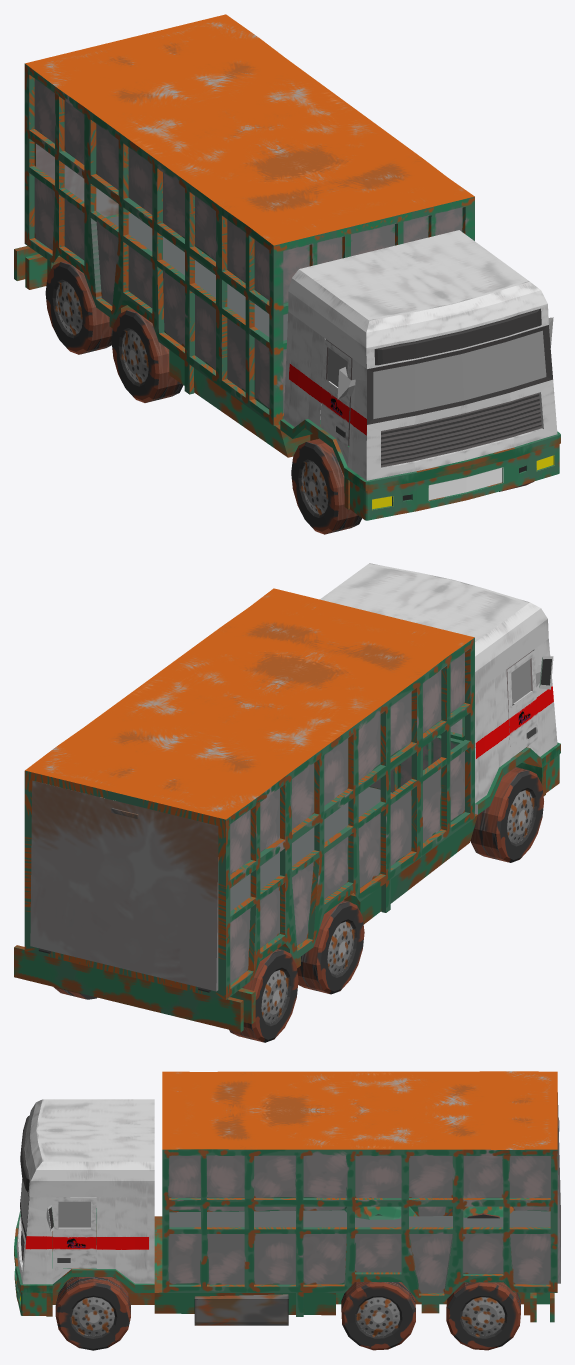
The model's file is Wil_Transport_Vehicle.fbx.
The picture shows the model from 3 angles, top to bottom: view 1: azimuth 30°, elevation 25°; view 2: azimuth 150°, elevation 25°; view 3: azimuth 270°, elevation 25°; orthographic projection. The views are drawn at different scales.
Visible parts, largest first — view 1: Cage, Truck, Wheels.001, Wheels.002, Wheels.005, door.001, Cage_Door; view 2: Cage, Cage_Door, Truck, Wheels.001, Wheels.002, Wheels.005, door.001; view 3: Cage, Truck, Wheels, Wheels.003, Wheels.004, door, Gass_Tank, Cage_Door.
Boxes of the visible parts, bbox=[...] form: Cage: bbox=[24, 14, 474, 425]; Truck: bbox=[14, 230, 560, 520]; Wheels.001: bbox=[291, 438, 361, 534]; Wheels.002: bbox=[111, 309, 183, 402]; Wheels.005: bbox=[45, 260, 112, 354]; door.001: bbox=[320, 338, 352, 446]; Cage_Door: bbox=[36, 144, 118, 216]; Cage: bbox=[24, 588, 474, 999]; Cage_Door: bbox=[30, 781, 218, 991]; Truck: bbox=[14, 563, 560, 1032]; Wheels.001: bbox=[470, 767, 543, 862]; Wheels.002: bbox=[297, 900, 364, 994]; Wheels.005: bbox=[229, 949, 298, 1042]; door.001: bbox=[506, 650, 537, 758]; Cage: bbox=[162, 1071, 557, 1316]; Truck: bbox=[14, 1099, 554, 1322]; Wheels: bbox=[55, 1277, 130, 1350]; Wheels.003: bbox=[341, 1282, 415, 1350]; Wheels.004: bbox=[446, 1282, 520, 1350]; door: bbox=[52, 1197, 96, 1268]; Gass_Tank: bbox=[194, 1294, 288, 1325]; Cage_Door: bbox=[557, 1092, 560, 1283].
Bounding box in the file's own units: 788 × 843 × 2074.
